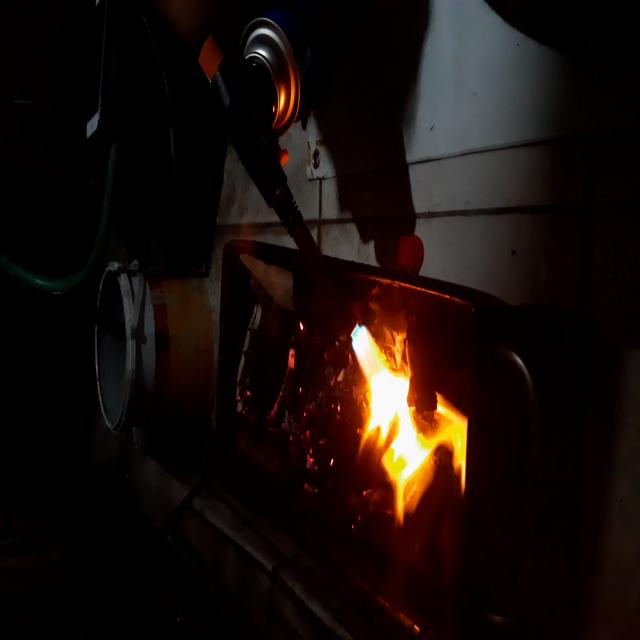Fire: (342, 314, 471, 560), (268, 348, 348, 478)
